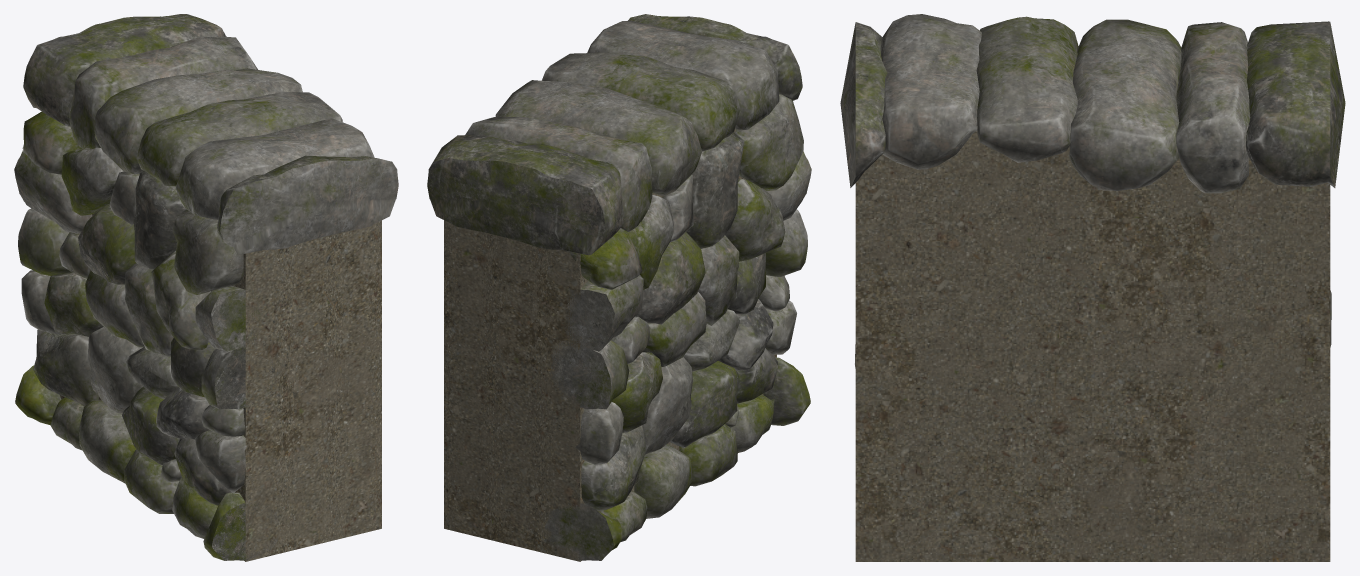
Rendered from SM_Pond.fbx.
The picture shows the model from 3 angles, left to right: view 1: azimuth 30°, elevation 25°; view 2: azimuth 150°, elevation 25°; view 3: azimuth 270°, elevation 25°; orthographic projection. The views are drawn at different scales.
Parts seen in each view (by area): view 1: SM_Pond; view 2: SM_Pond; view 3: SM_Pond.
Part boxes in pixels (x1=…): SM_Pond: x1=14, y1=14, x2=398, y2=561; SM_Pond: x1=427, y1=14, x2=811, y2=561; SM_Pond: x1=840, y1=14, x2=1345, y2=561.
Bounding box in the file's own units: 115 × 213 × 220.
1 material, 1 textured.
